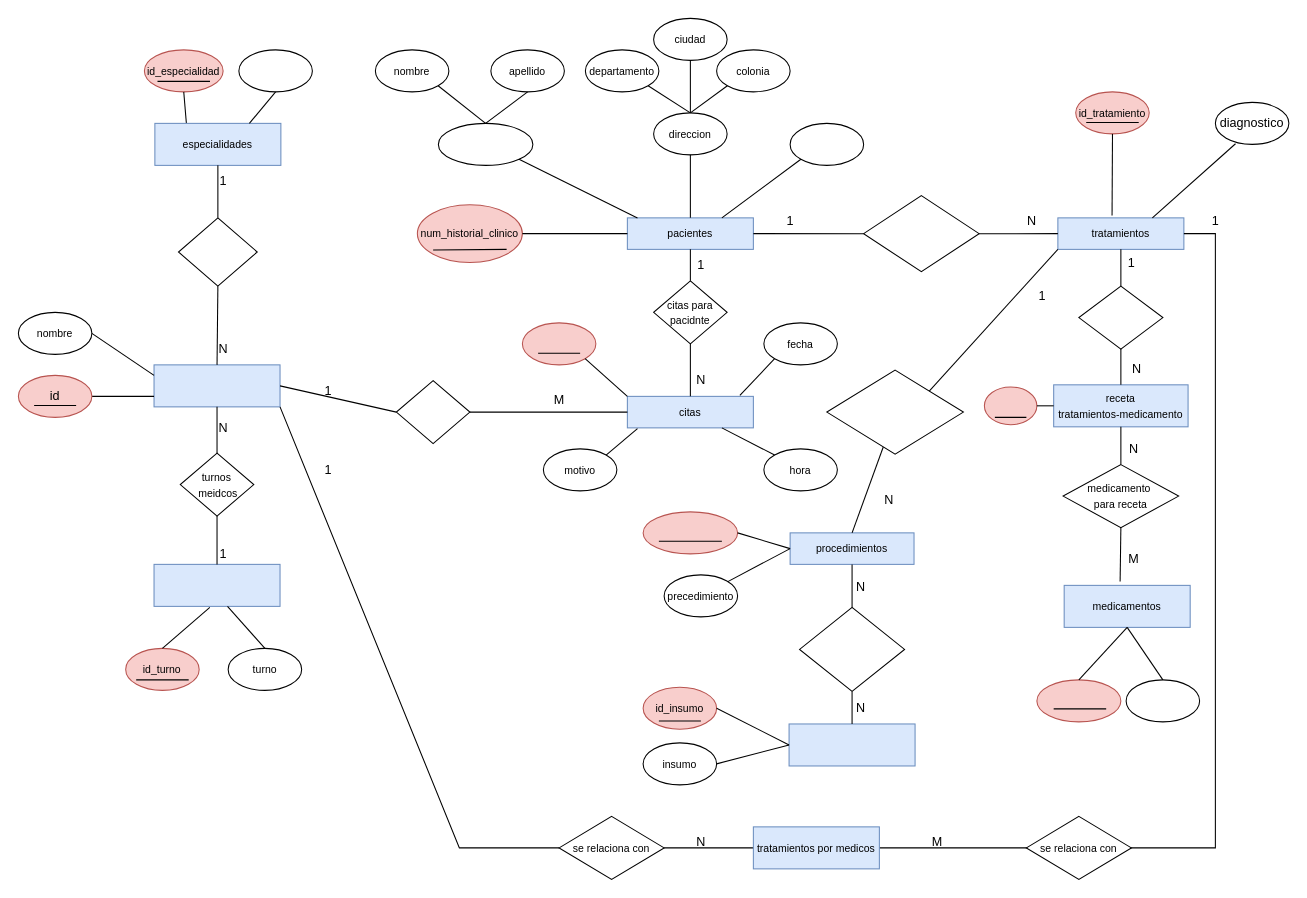
Image size: 1307x898. Some labels were removed from this diagram. Each missing label, with the box of its shape:
citas por medico: (395, 380, 470, 444)
especialidad: (238, 49, 312, 92)
especialidad medica: (177, 217, 257, 286)
id_cita: (521, 322, 596, 365)
id_medicamento: (1036, 679, 1121, 722)
id_procedimento: (642, 511, 738, 554)
id_receta: (983, 386, 1037, 425)
insumo de procedimiento: (799, 606, 905, 691)
insumos: (788, 723, 915, 766)
medicamento: (1125, 679, 1200, 722)
medicos: (153, 364, 280, 407)
nombre_completo: (437, 122, 533, 165)
procedimento para tratamiento: (826, 369, 963, 454)
recta para tratamiento: (1078, 285, 1163, 349)
telefono: (789, 122, 864, 165)
tratamientos de pacientes: (863, 195, 979, 272)
turnos: (153, 563, 280, 606)
